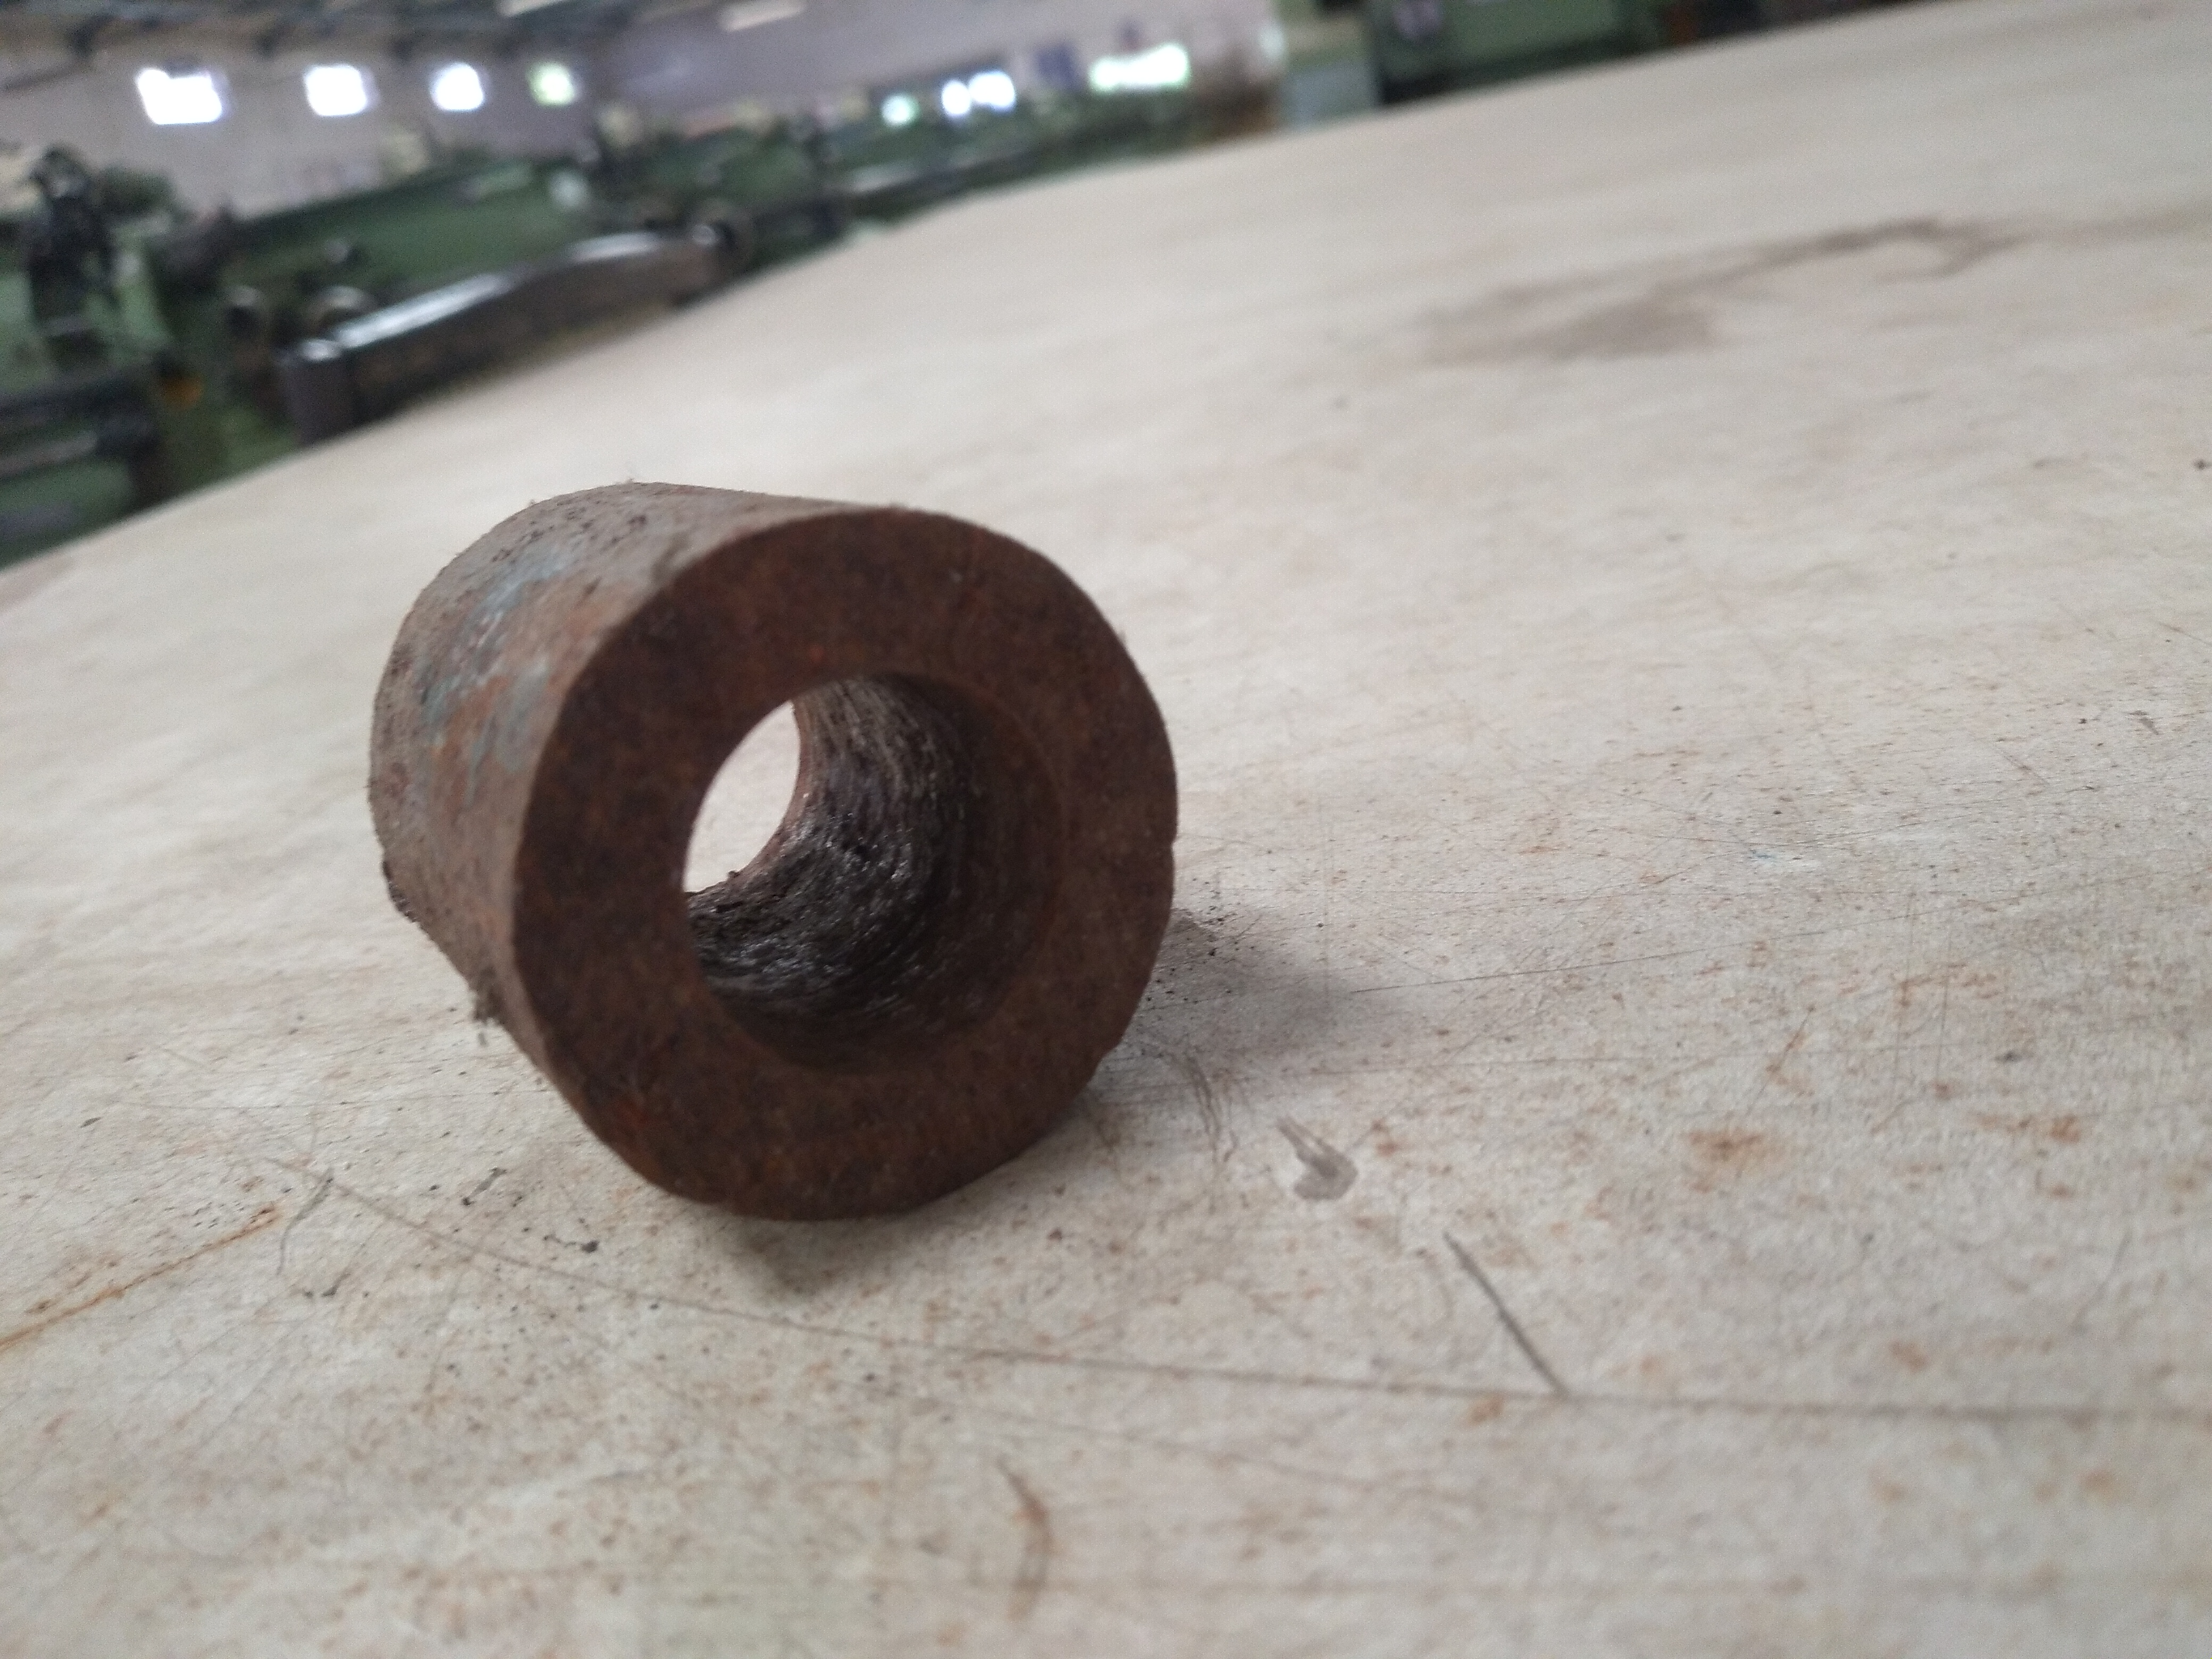No thread: (685, 624, 1097, 1110)
